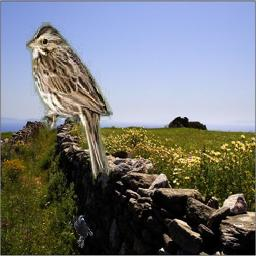Crow: (75, 214, 94, 249)
Sparrow: (27, 22, 114, 180)
